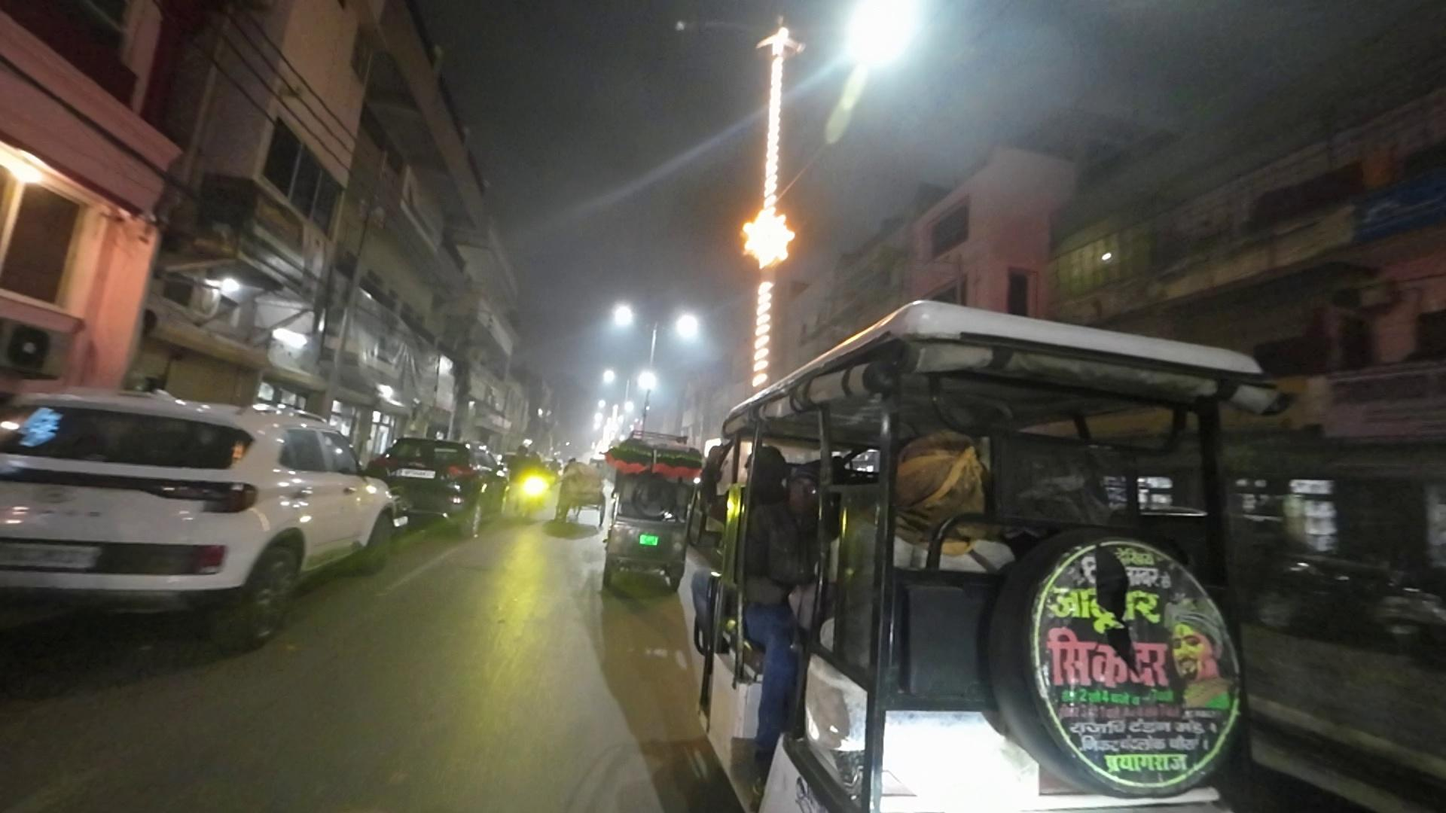streetlight: (669, 11, 759, 38)
